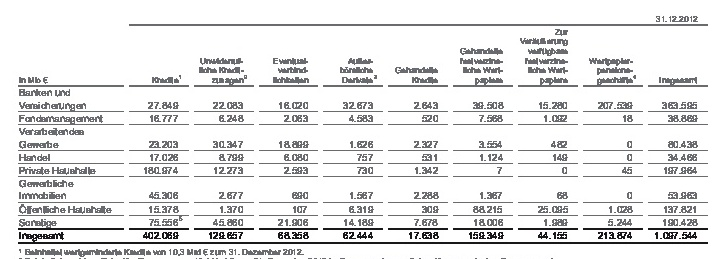table: (0, 0, 724, 259)
